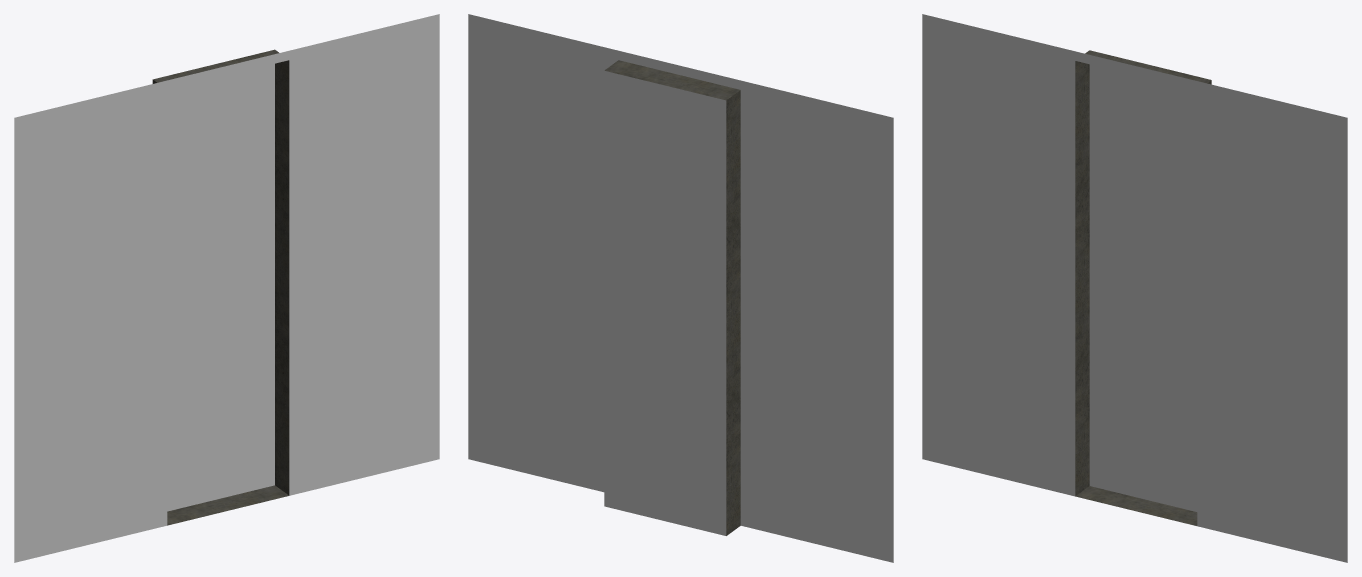
The model's file is CT_door_09.fbx.
3 views of the same model, side by side, from view 1: azimuth 30°, elevation 25°; view 2: azimuth 150°, elevation 25°; view 3: azimuth 330°, elevation 25° (orthographic).
Visible parts, largest first — view 1: CT_door_09; view 2: CT_door_09; view 3: CT_door_09.
Boxes of the visible parts, x1,y1,x2,y2 form: CT_door_09: [14, 14, 439, 562]; CT_door_09: [468, 14, 893, 562]; CT_door_09: [922, 14, 1347, 562].
Bounding box in the file's own units: 256 × 256 × 15.
